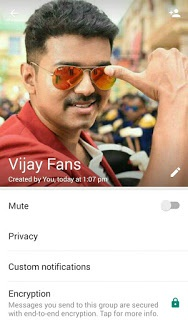bad: (36, 36, 126, 126)
